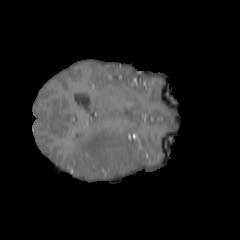glioma: (72, 128, 146, 178)
